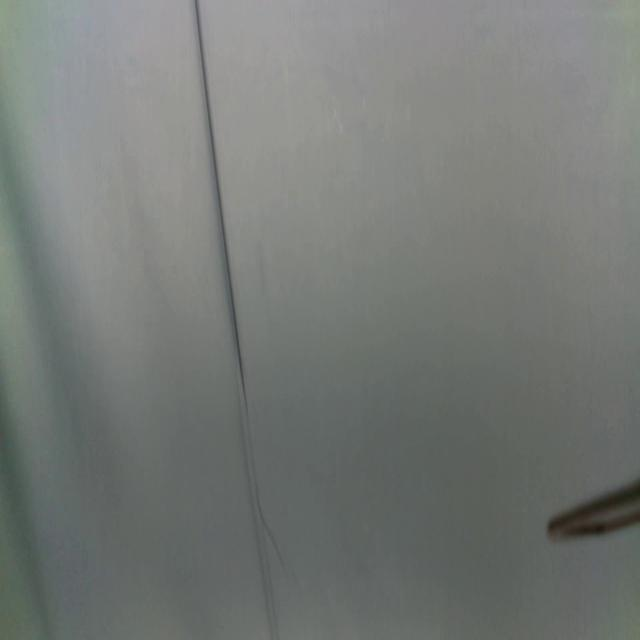crease: (193, 0, 280, 638)
